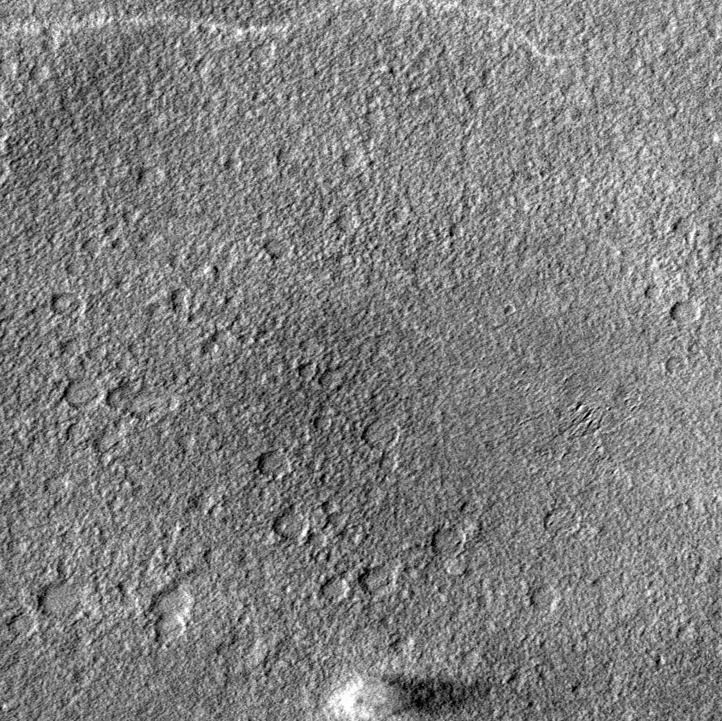dust_devil: (321, 672, 495, 721)
